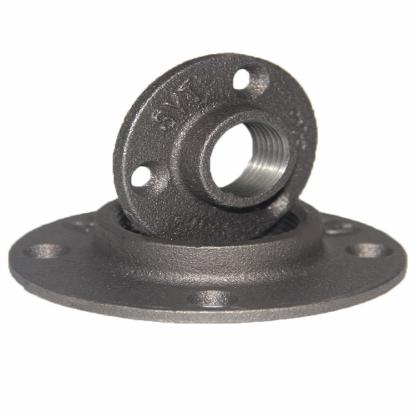FOD: (4, 183, 408, 326), (109, 51, 320, 242)
